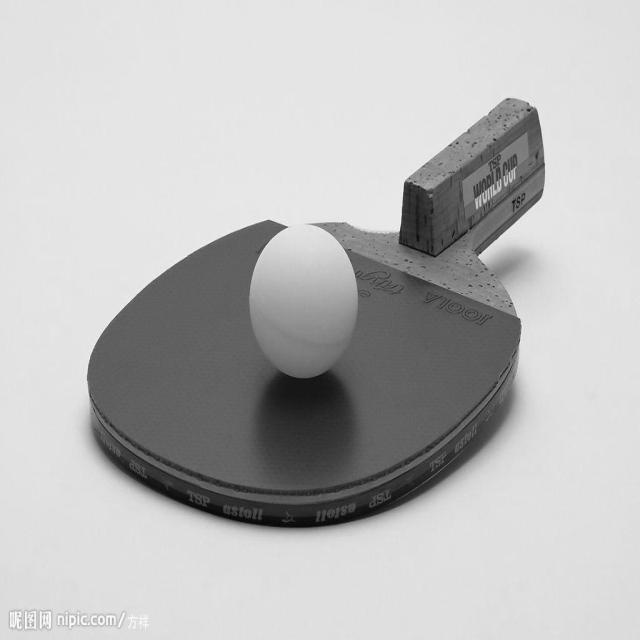ping-pong-ball: (250, 222, 362, 382)
